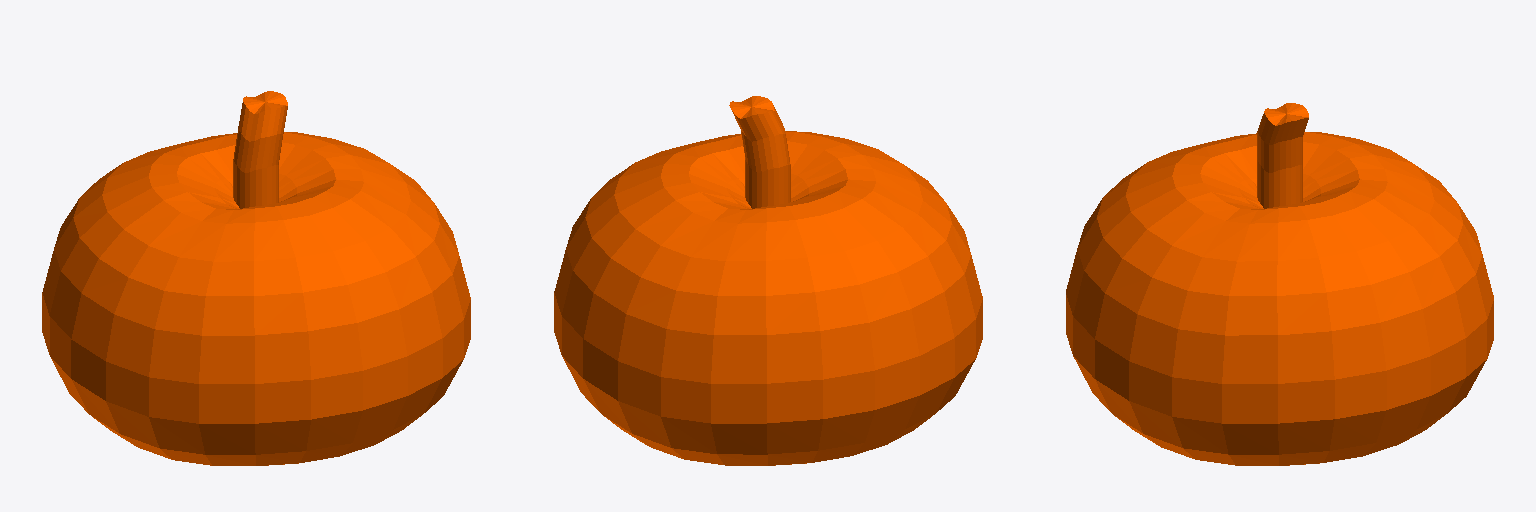
File: pumpkin.obj
3 views of the same model, side by side, from view 1: azimuth 30°, elevation 25°; view 2: azimuth 150°, elevation 25°; view 3: azimuth 270°, elevation 25° (orthographic).
Parts seen in each view (by area): view 1: pDisc1; view 2: pDisc1; view 3: pDisc1.
Boxes of the visible parts, box(x1,y1,x2,y2) form: pDisc1: box(42, 91, 470, 465); pDisc1: box(554, 96, 982, 465); pDisc1: box(1066, 103, 1493, 465).
Bounding box in the file's own units: 3.5 × 2.71 × 3.5.